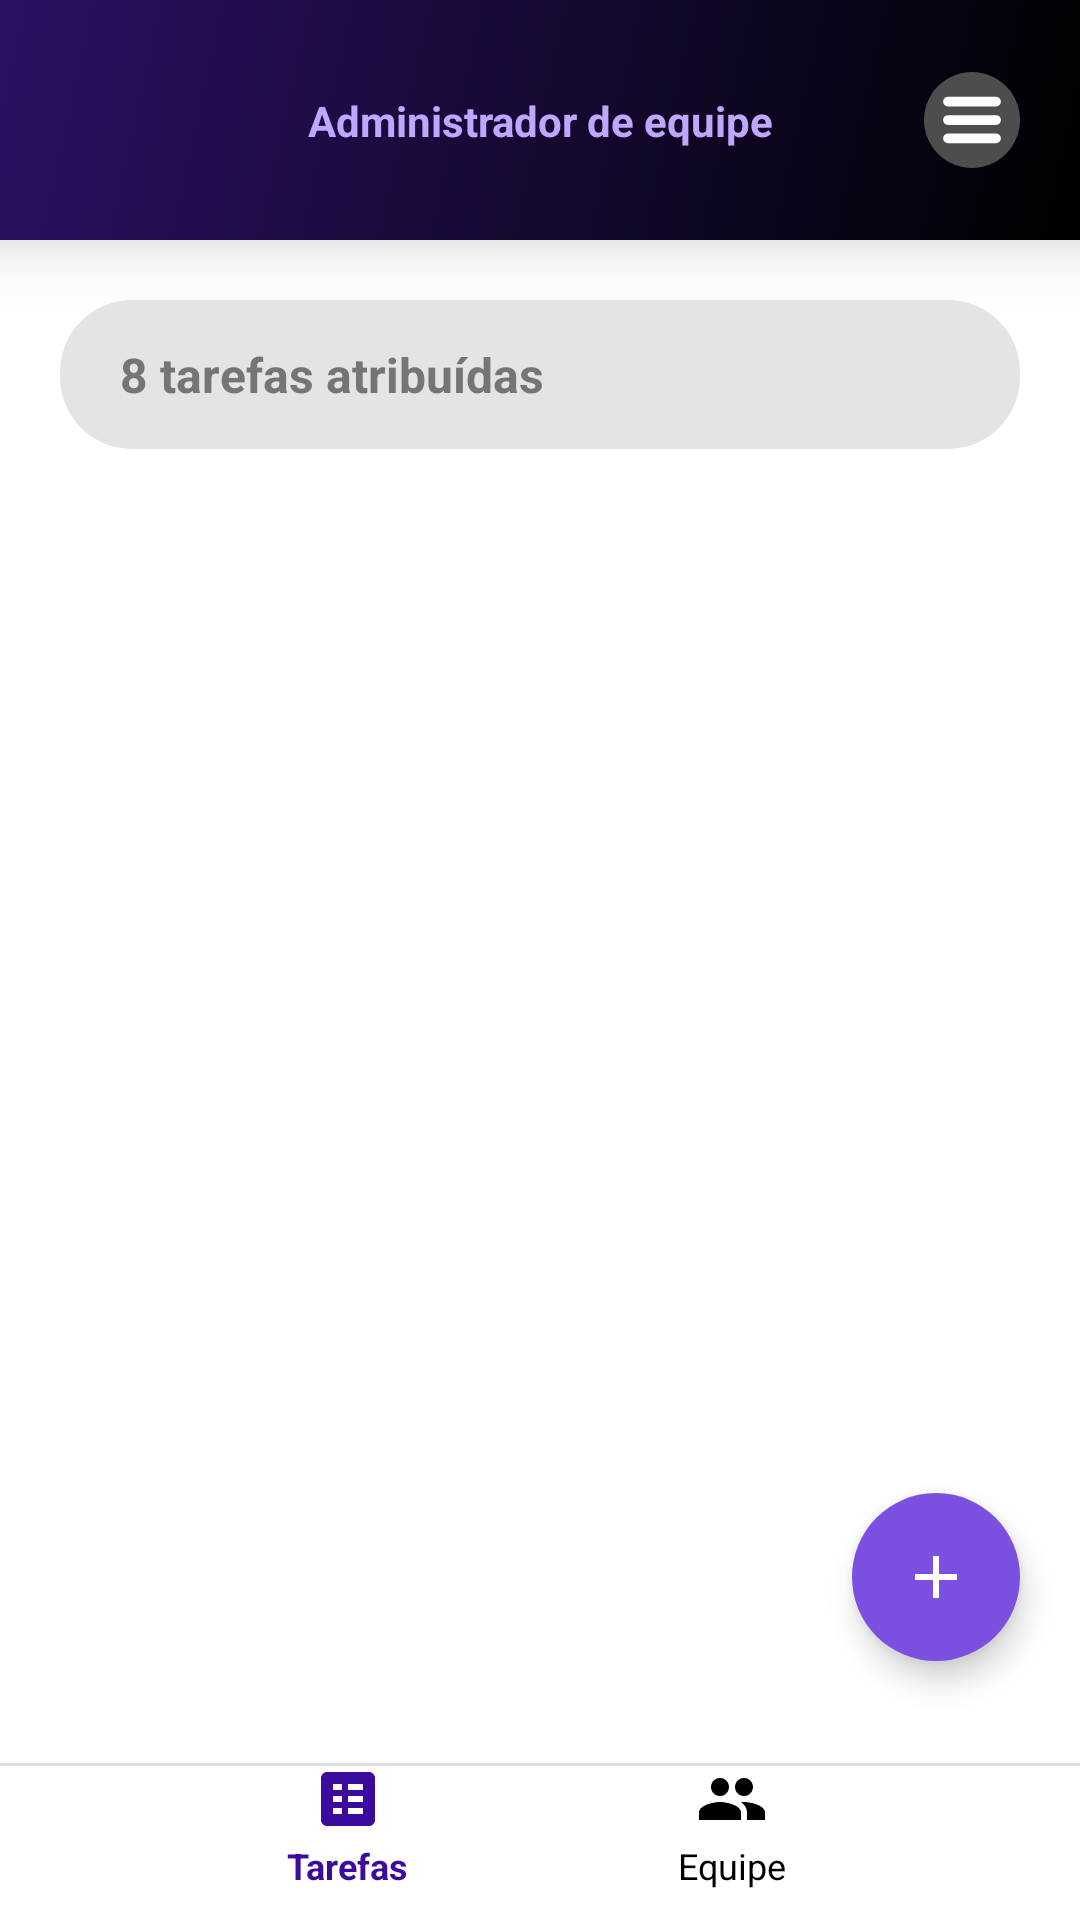

Point at icon controls on the screen. Image size 1080x1920, points as [x,y].
Adicionar tarefa: [936,1577]
Menu: [972,120]
